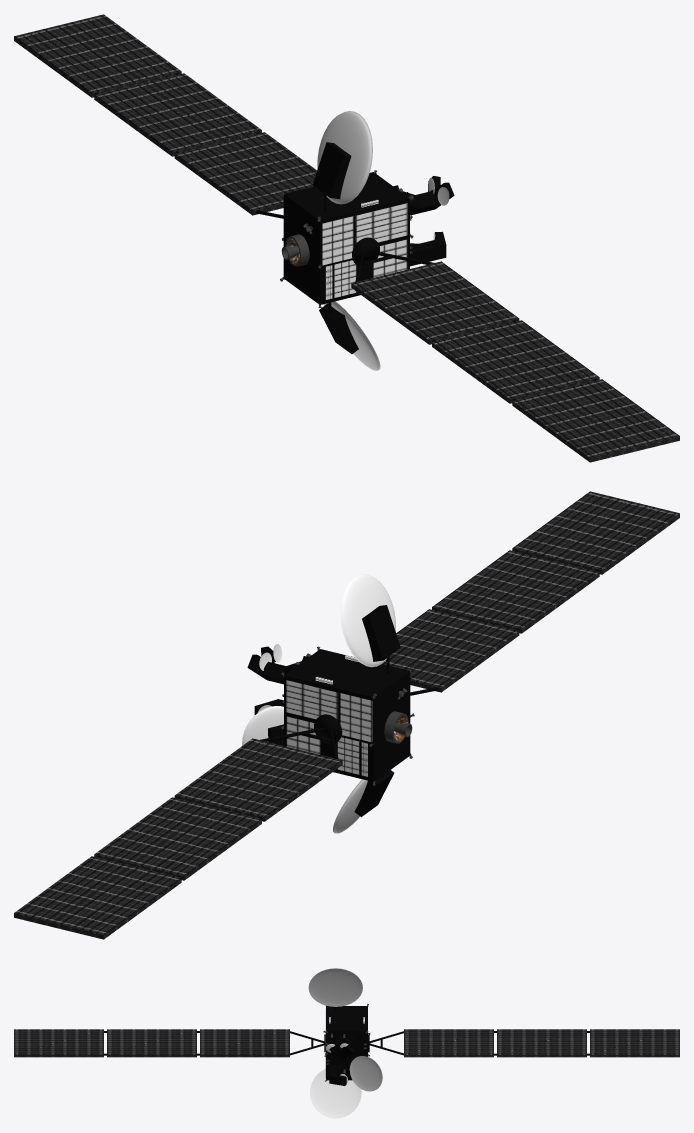
The model's file is Turksat-6A.glb.
The picture shows the model from 3 angles, top to bottom: view 1: azimuth 30°, elevation 25°; view 2: azimuth 150°, elevation 25°; view 3: azimuth 270°, elevation 25°; orthographic projection. The views are drawn at different scales.
Parts seen in each view (by area): view 1: Wing1, Wing.2, Cube.007, MainRadar, MainRadar.001, Cube.010, Cube, Cube.011, Cube.002, Cube.012, Main Thruster, Cube.008; view 2: Wing.2, Wing1, Cube.007, MainRadar, Cube.017, MainRadar.001, Cube.018, MainRadar.002, Cube.016, Cube.015, Main Thruster; view 3: Wing1, Wing.2, Cube.007, MainRadar, MainRadar.001, MainRadar.002, Cube.002.
Part boxes in pixels (x1,y1,x2,y2): Wing1: [351, 237, 679, 462]; Wing.2: [14, 14, 317, 218]; Cube.007: [283, 172, 409, 304]; MainRadar: [312, 111, 372, 211]; MainRadar.001: [319, 301, 380, 370]; Cube.010: [355, 203, 407, 243]; Cube: [322, 216, 353, 265]; Cube.011: [373, 239, 407, 277]; Cube.002: [410, 231, 446, 266]; Cube.012: [334, 260, 356, 297]; Main Thruster: [281, 234, 309, 266]; Cube.008: [403, 182, 454, 215]; Wing.2: [14, 714, 342, 939]; Wing1: [382, 491, 679, 695]; Cube.007: [284, 649, 410, 781]; MainRadar: [340, 573, 400, 674]; Cube.017: [286, 680, 338, 720]; MainRadar.001: [333, 770, 394, 833]; Cube.018: [340, 693, 372, 742]; MainRadar.002: [242, 706, 283, 745]; Cube.016: [286, 716, 320, 754]; Cube.015: [337, 737, 359, 774]; Main Thruster: [384, 711, 412, 743]; Wing1: [14, 1029, 325, 1057]; Wing.2: [368, 1029, 679, 1057]; Cube.007: [326, 1006, 367, 1080]; MainRadar: [308, 968, 362, 1010]; MainRadar.001: [310, 1069, 361, 1118]; MainRadar.002: [349, 1056, 382, 1091]; Cube.002: [329, 1064, 346, 1085].
Bounding box in the file's own units: 3.47 × 5.42 × 22.21.
66 materials, 4 textured.
